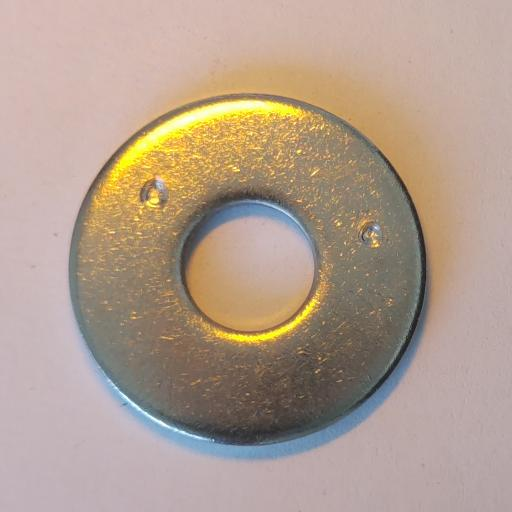circular_cavity: (139, 176, 169, 210), (356, 219, 384, 249)
